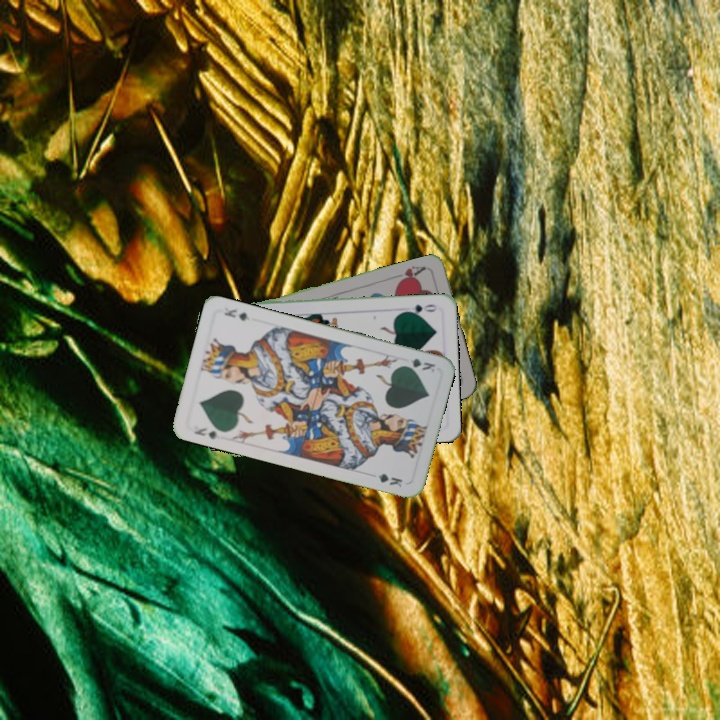GK: (398, 354, 438, 375), (190, 424, 222, 442)
GO: (400, 300, 439, 317)
HA: (390, 262, 428, 286)
